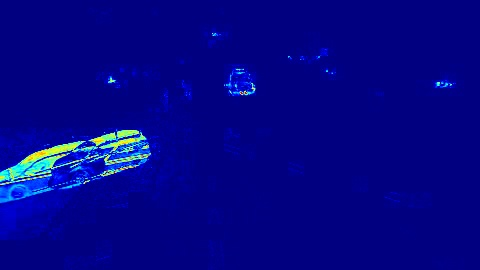vehicle: (13, 129, 165, 225), (223, 66, 264, 101)
